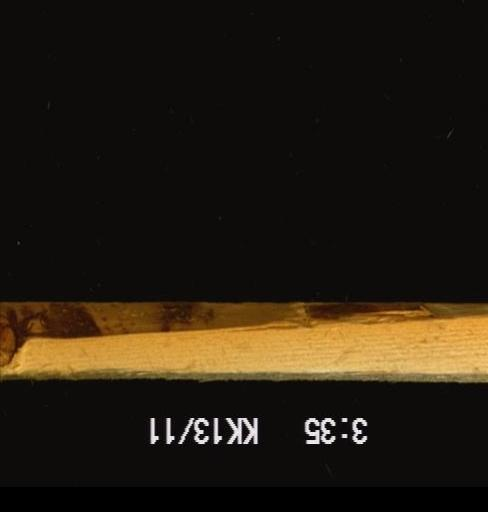wave: (0, 302, 486, 379)
